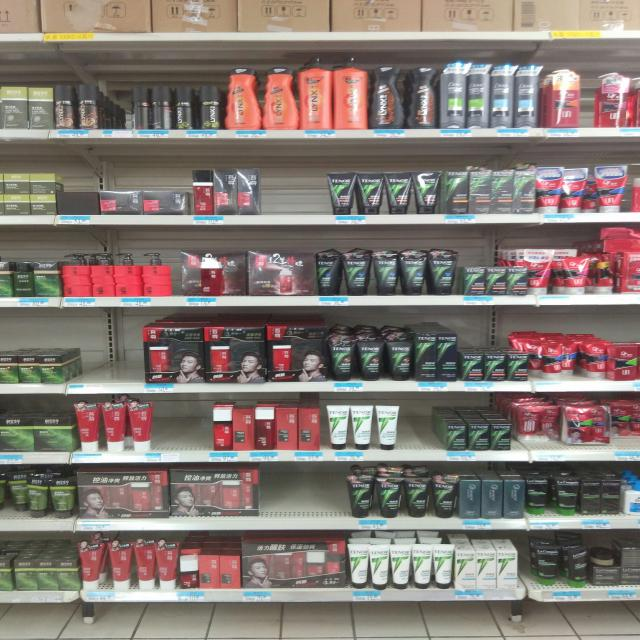100- O.O.S: (264, 465, 344, 528), (80, 318, 144, 392), (262, 162, 326, 222), (154, 396, 210, 462), (402, 400, 433, 460)
